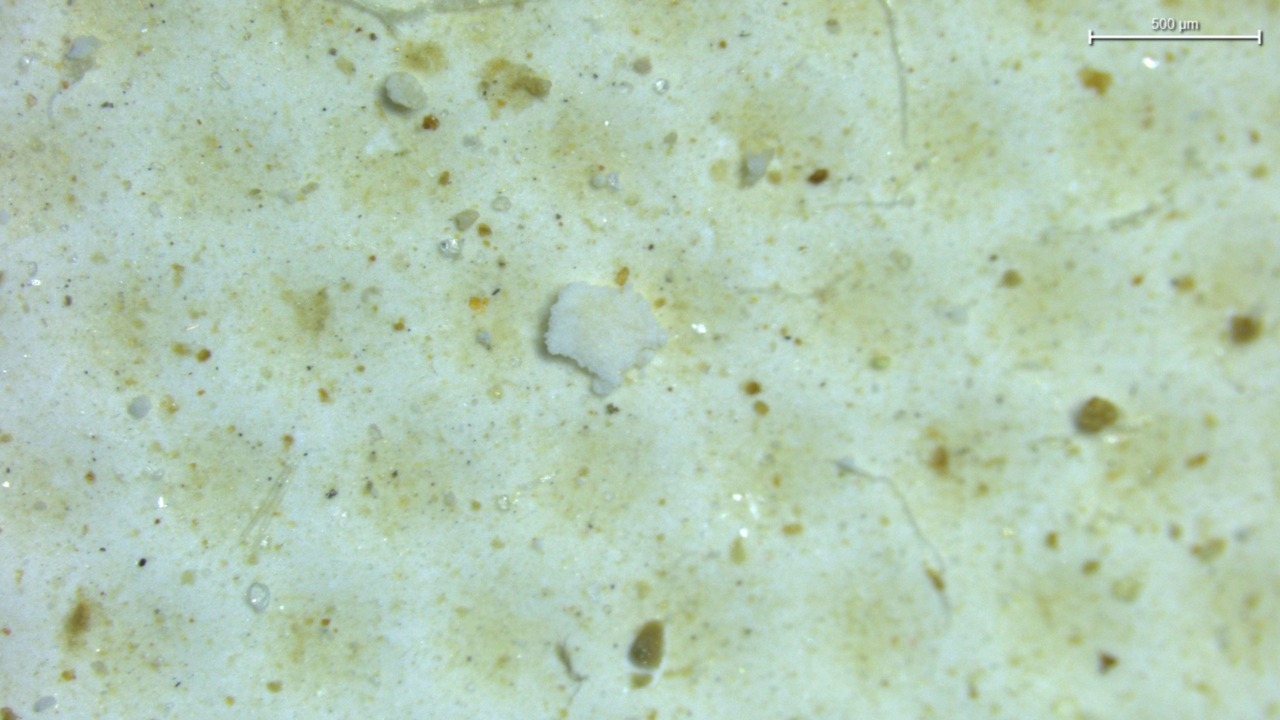microplastic_fragment: (544, 282, 668, 395), (385, 73, 426, 109)
